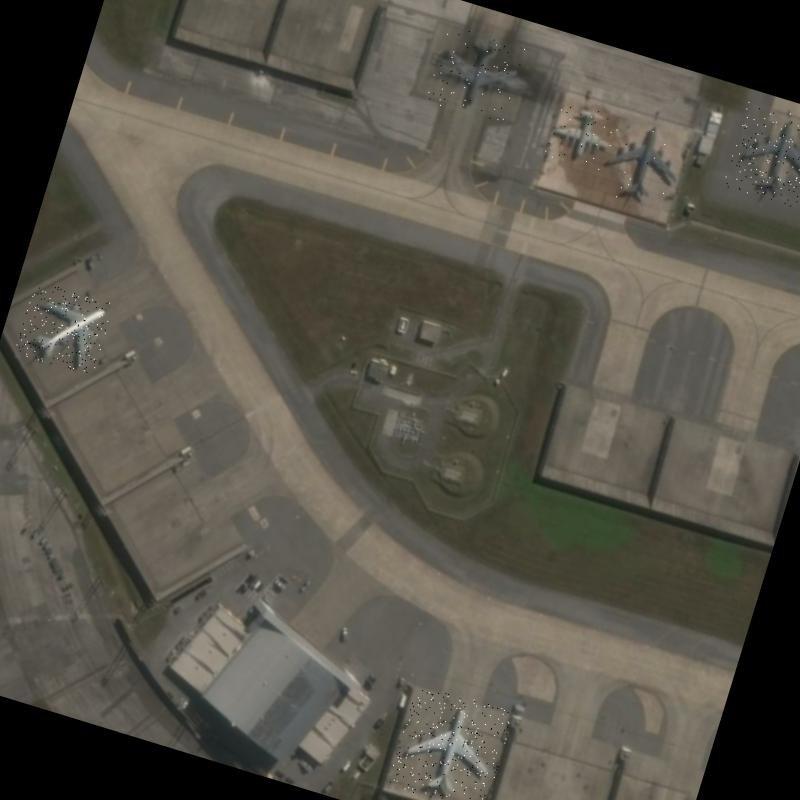A11: (387, 682, 516, 800), (12, 280, 114, 377)
A14: (593, 110, 696, 216), (424, 24, 527, 127), (723, 101, 800, 211)
A9: (543, 96, 620, 173)
